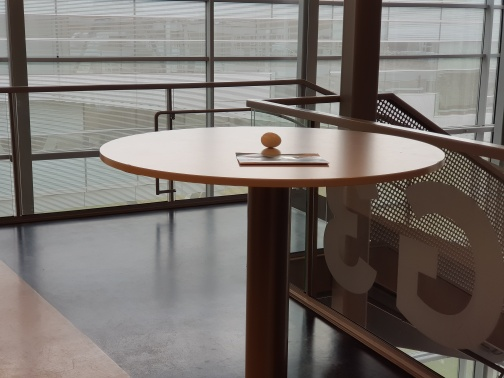egg: (260, 132, 283, 148)
